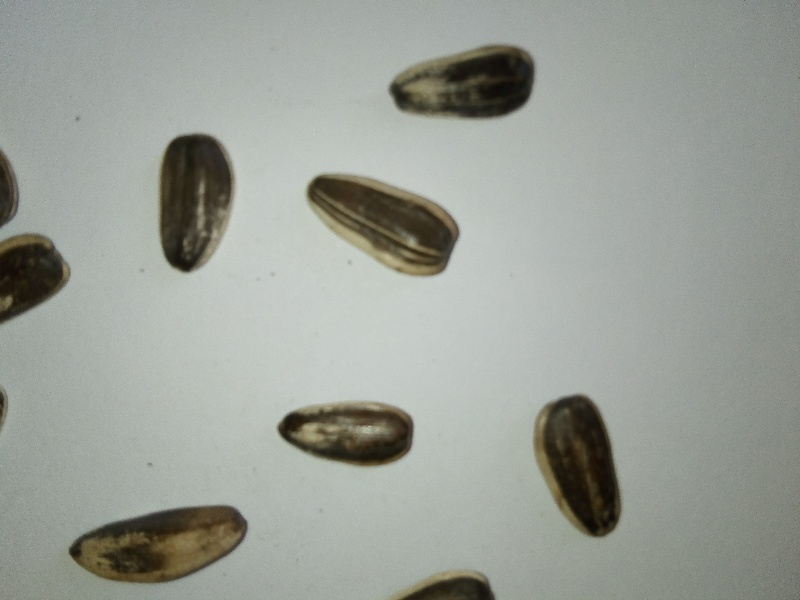girasol: (297, 165, 476, 285), (64, 499, 253, 587), (526, 390, 634, 542), (386, 28, 540, 129), (153, 126, 241, 278), (276, 394, 425, 475)
